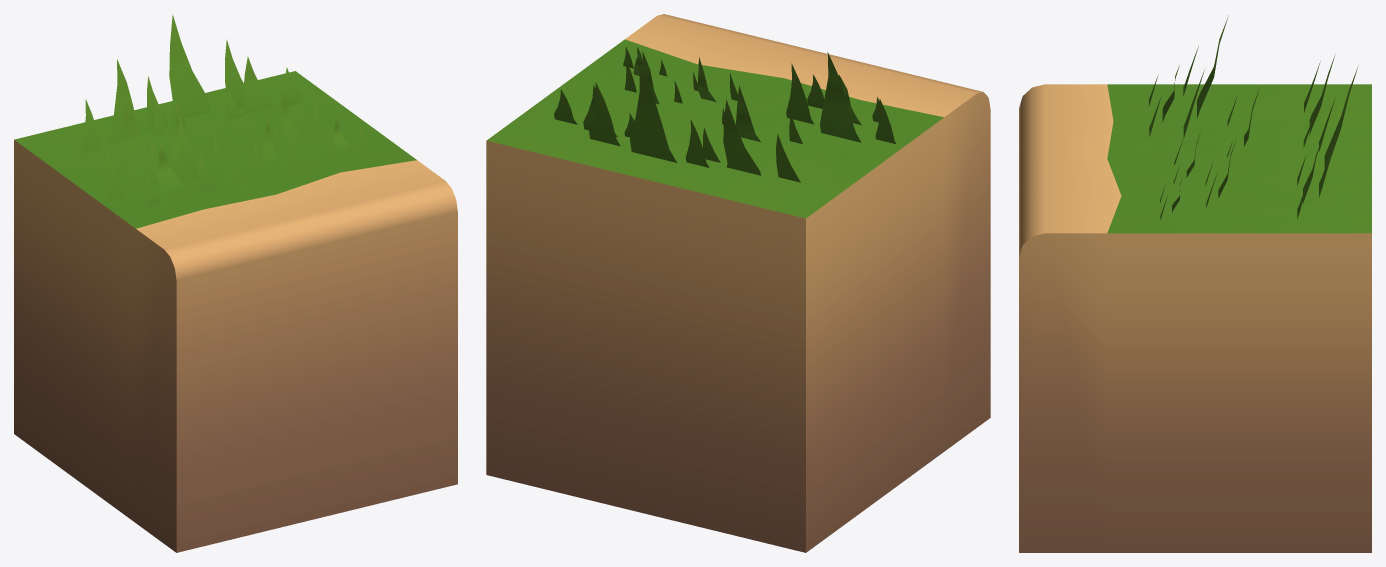
File: down m tile.fbx
The picture shows the model from 3 angles, left to right: view 1: azimuth 30°, elevation 25°; view 2: azimuth 150°, elevation 25°; view 3: azimuth 270°, elevation 25°; orthographic projection. The views are drawn at different scales.
Visible parts, largest first — view 1: d_m_tile, d_m_grass; view 2: d_m_tile, d_m_grass; view 3: d_m_tile, d_m_grass.
Boxes of the visible parts, x1=… form: d_m_tile: x1=14, y1=71, x2=457, y2=552; d_m_grass: x1=81, y1=14, x2=369, y2=207; d_m_tile: x1=486, y1=14, x2=990, y2=552; d_m_grass: x1=554, y1=46, x2=896, y2=182; d_m_tile: x1=1019, y1=84, x2=1371, y2=552; d_m_grass: x1=1149, y1=15, x2=1358, y2=219.
Bounding box in the file's own units: 10 × 13.15 × 10.
